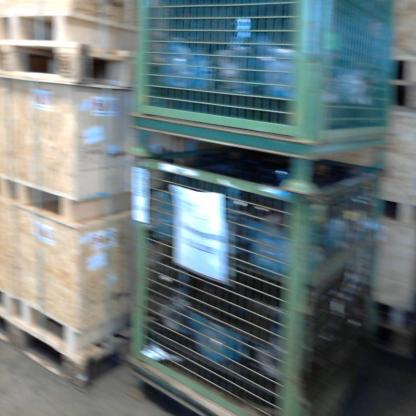pallet: (1, 317, 147, 392), (2, 37, 142, 99), (365, 314, 413, 366), (376, 74, 415, 115)
stillage: (121, 143, 379, 412), (134, 3, 396, 177)
